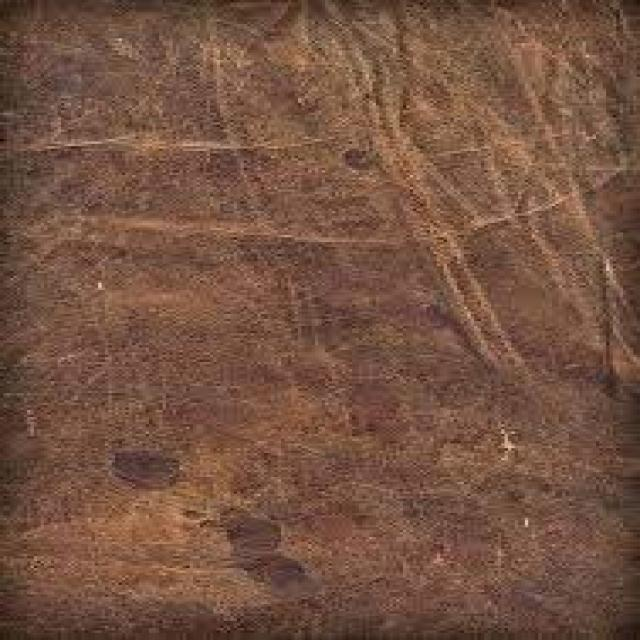Bacterial Injury: (214, 505, 323, 605), (104, 442, 196, 502)
